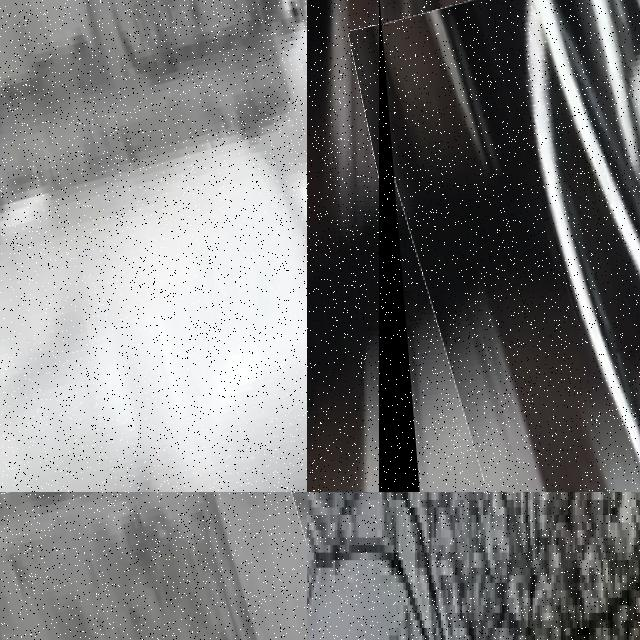drone: (0, 0, 307, 492), (379, 0, 640, 492), (0, 492, 307, 640)
